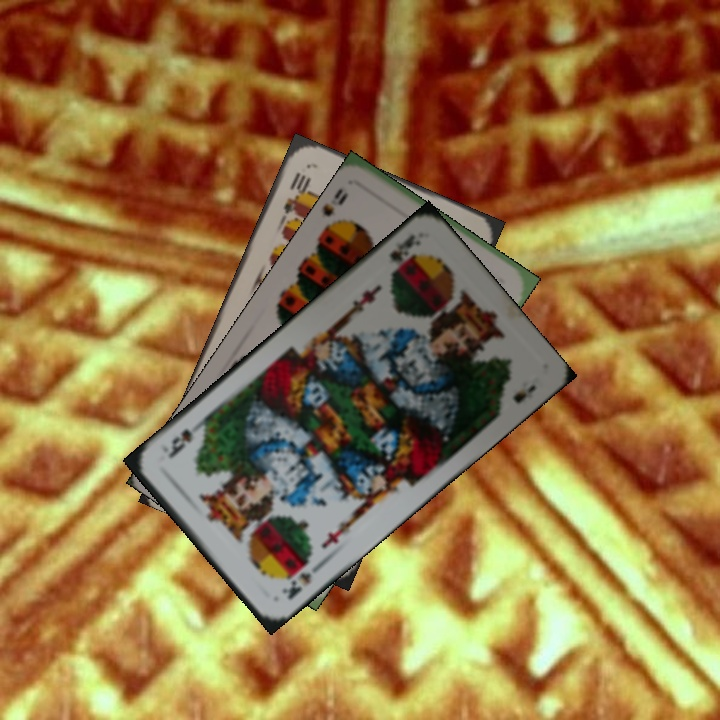E10: (279, 168, 313, 217)
S9: (319, 188, 351, 233)
SK: (277, 557, 324, 603), (385, 230, 424, 277)
